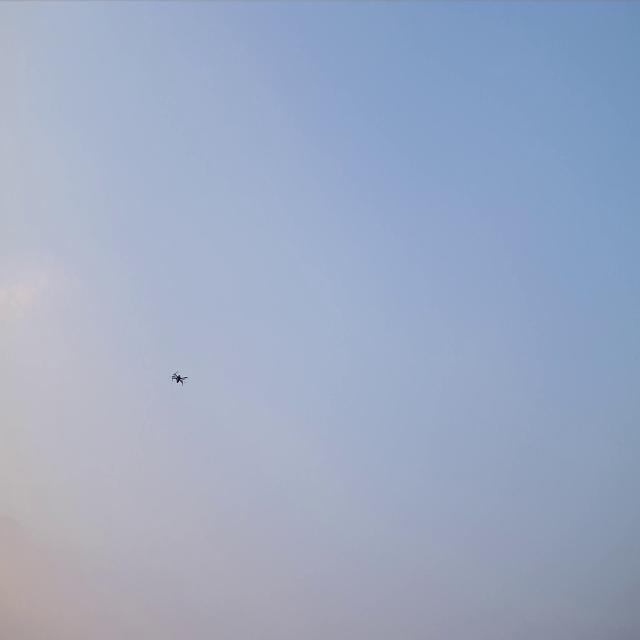UAV: (169, 369, 188, 387)
